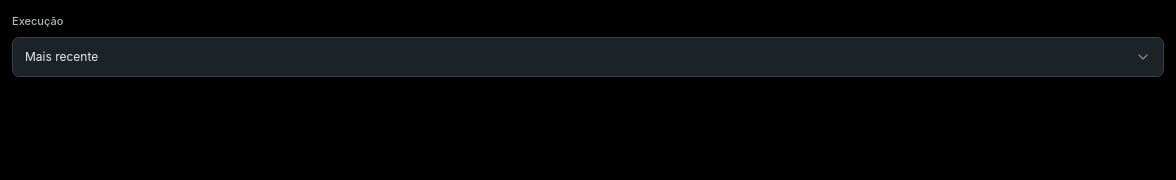
Test case: can select a run and return to the latest-run option without leaking an internal value
The width and height of the screenshot is (1176, 180).
Step 1. Press ArrowDown in the dropdown named "Execução", box [12,36,1164,76]
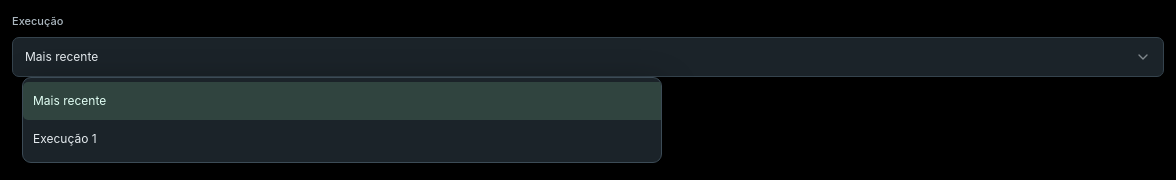
Step 2. Click the option "Execução 1" → (65, 139), box [33,131,97,146]
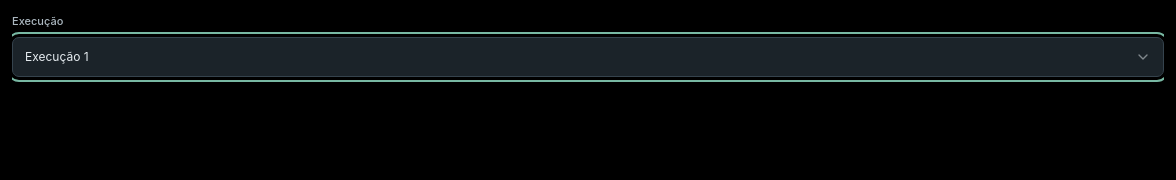
Check: the dropdown labelled "Execução" reads "Execução 1"
Step 3. Press ArrowDown in the dropdown labelled "Execução", box [12,36,1164,76]
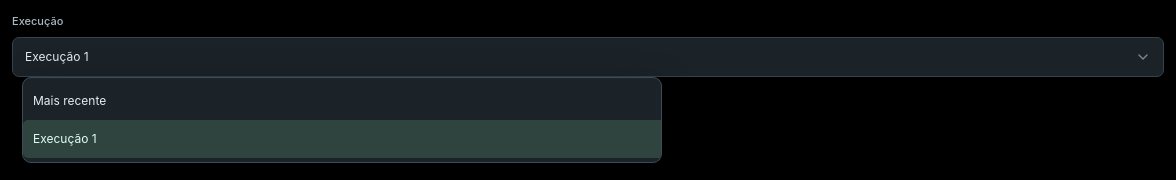
Step 4. Click the option "Mais recente" → (70, 101), box [33,93,106,108]
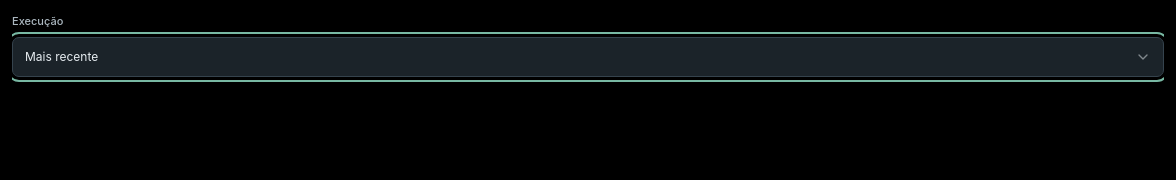
Check: the dropdown named "Execução" reads "Mais recente", box [12,36,1164,76]
